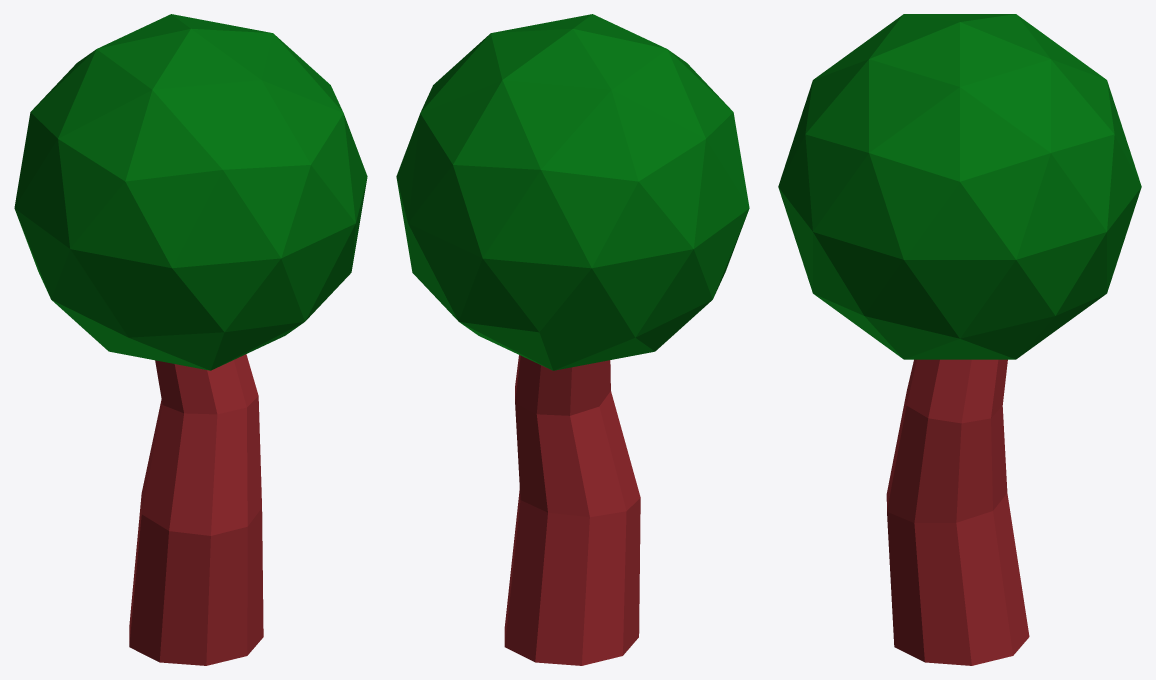
The model's file is Tree2.fbx.
3 views of the same model, side by side, from view 1: azimuth 30°, elevation 25°; view 2: azimuth 150°, elevation 25°; view 3: azimuth 270°, elevation 25° (orthographic).
Visible parts, largest first — view 1: Tree2; view 2: Tree2; view 3: Tree2.
Part boxes in pixels (x1,y1,x2,y2): Tree2: [14, 14, 367, 665]; Tree2: [396, 14, 749, 665]; Tree2: [778, 14, 1141, 665].
Bounding box in the file's own units: 340 × 665 × 357.
